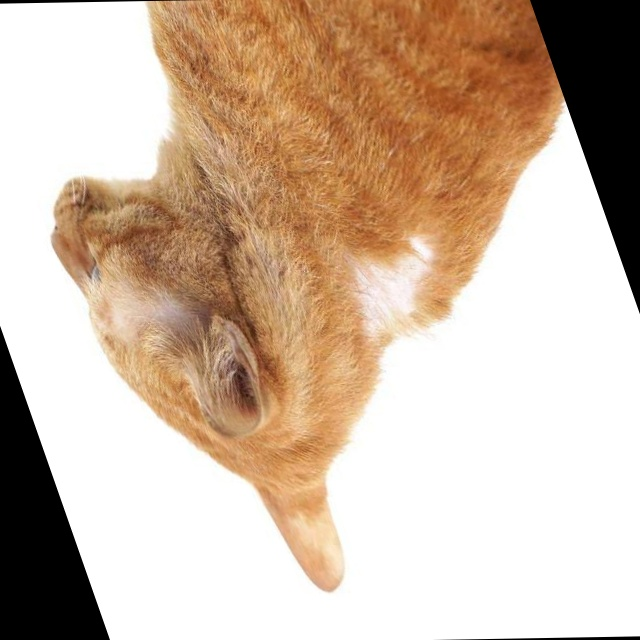hairloss: (339, 257, 442, 325)
